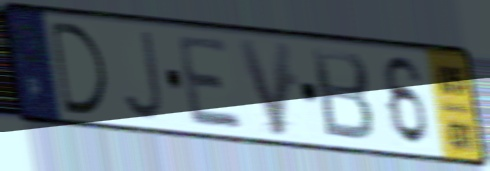6: (381, 53, 431, 151)
B: (308, 45, 378, 146)
D: (46, 17, 112, 118)
E: (173, 32, 247, 133)
J: (118, 28, 166, 124)
V: (233, 35, 294, 140)
